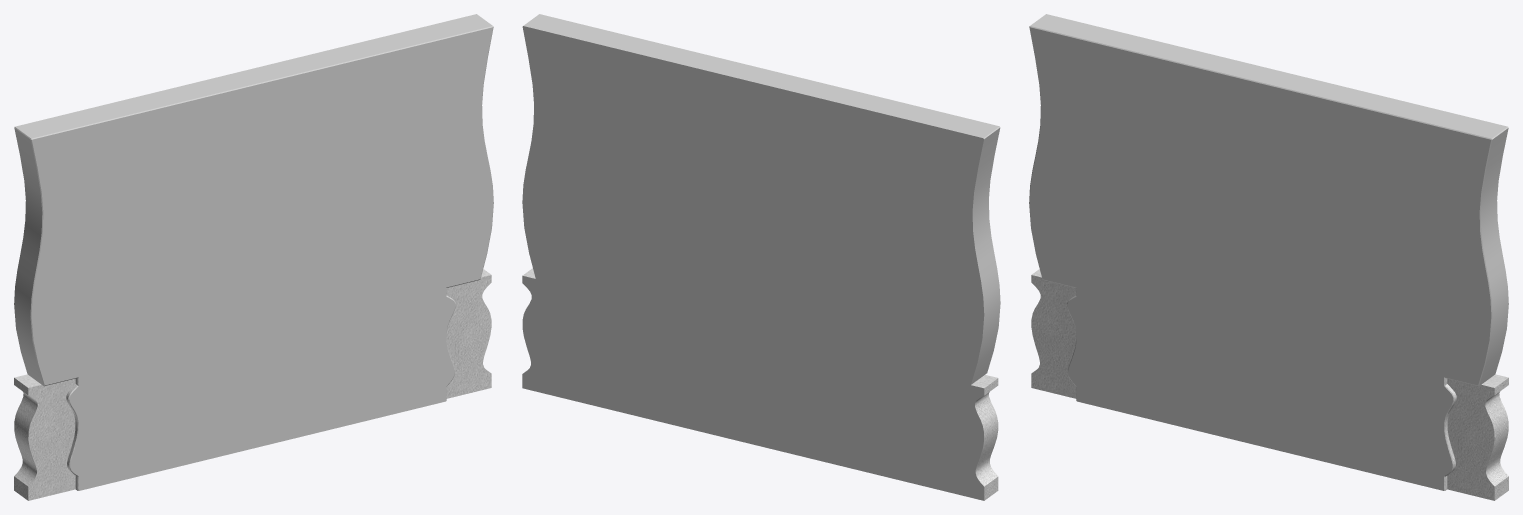
The model's file is cn3c161ebccd_tkf.glb.
3 views of the same model, side by side, from view 1: azimuth 30°, elevation 25°; view 2: azimuth 150°, elevation 25°; view 3: azimuth 330°, elevation 25° (orthographic).
Parts seen in each view (by area): view 1: Pam-g-138, Pam-g-138_2_notexture; view 2: Pam-g-138, Pam-g-138_2_notexture; view 3: Pam-g-138, Pam-g-138_2_notexture.
Boxes of the visible parts, left/top/right/bottom form: Pam-g-138: left=14, top=14, right=493, bottom=490; Pam-g-138_2_notexture: left=14, top=269, right=491, bottom=500; Pam-g-138: left=522, top=14, right=1000, bottom=500; Pam-g-138_2_notexture: left=523, top=268, right=998, bottom=500; Pam-g-138: left=1029, top=14, right=1508, bottom=490; Pam-g-138_2_notexture: left=1031, top=269, right=1508, bottom=500.
Bounding box in the file's own units: 0.8 × 0.6 × 0.05.
Materials: 1 (1 with a texture image).
